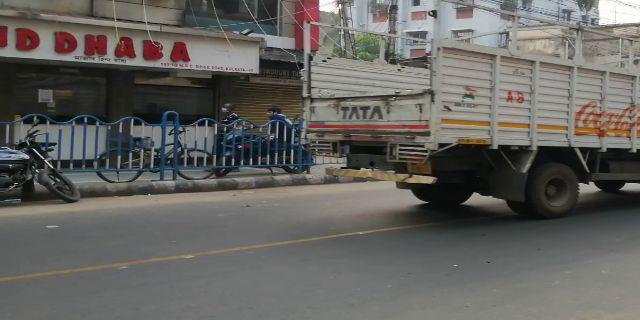Truck: (306, 16, 622, 203)
